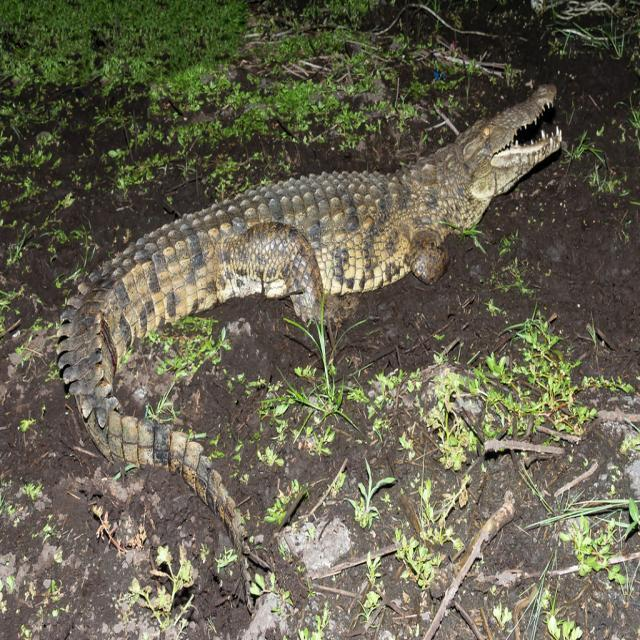crocodile: (54, 77, 571, 571)
